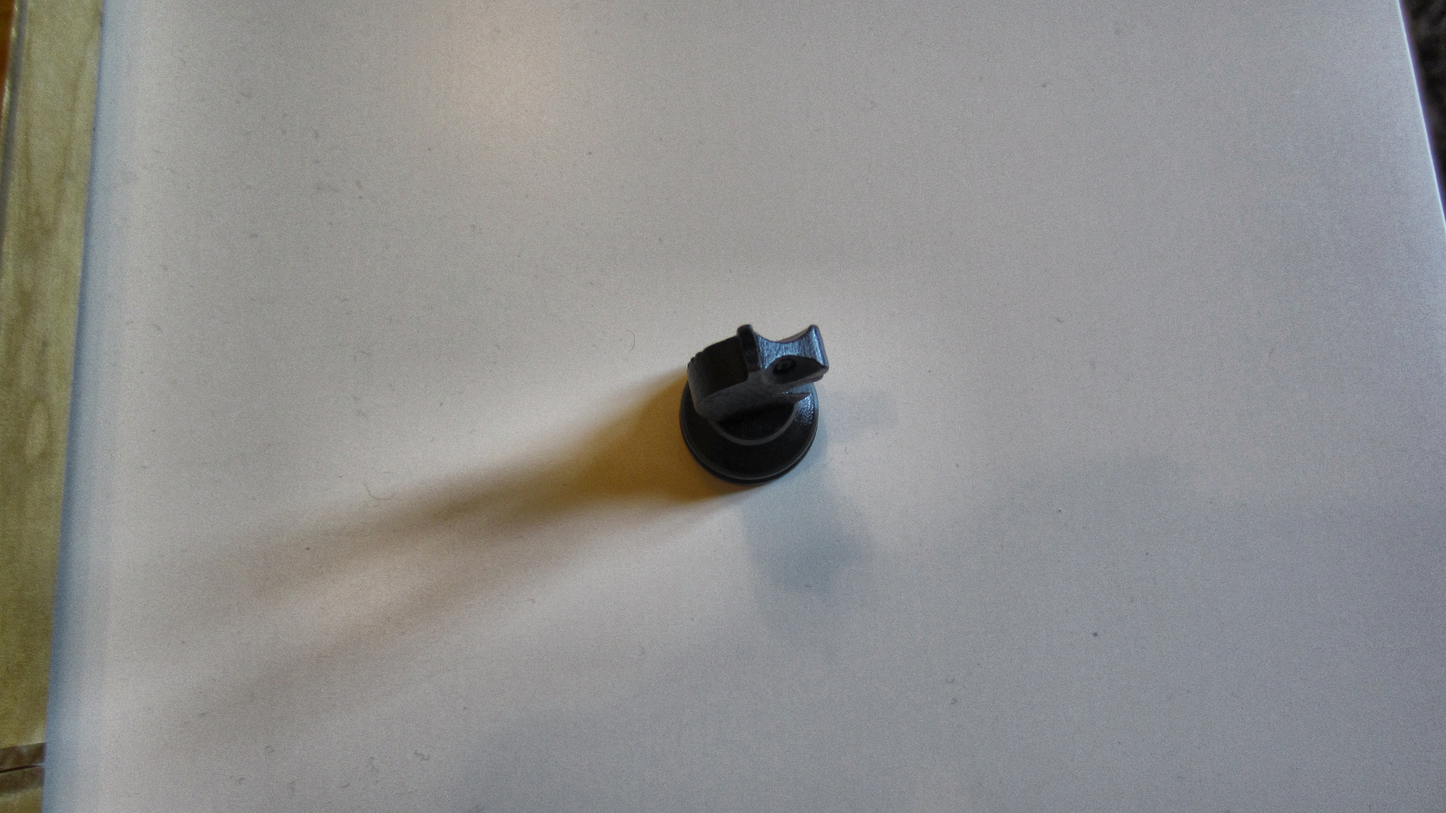black-knight: (671, 320, 831, 490)
